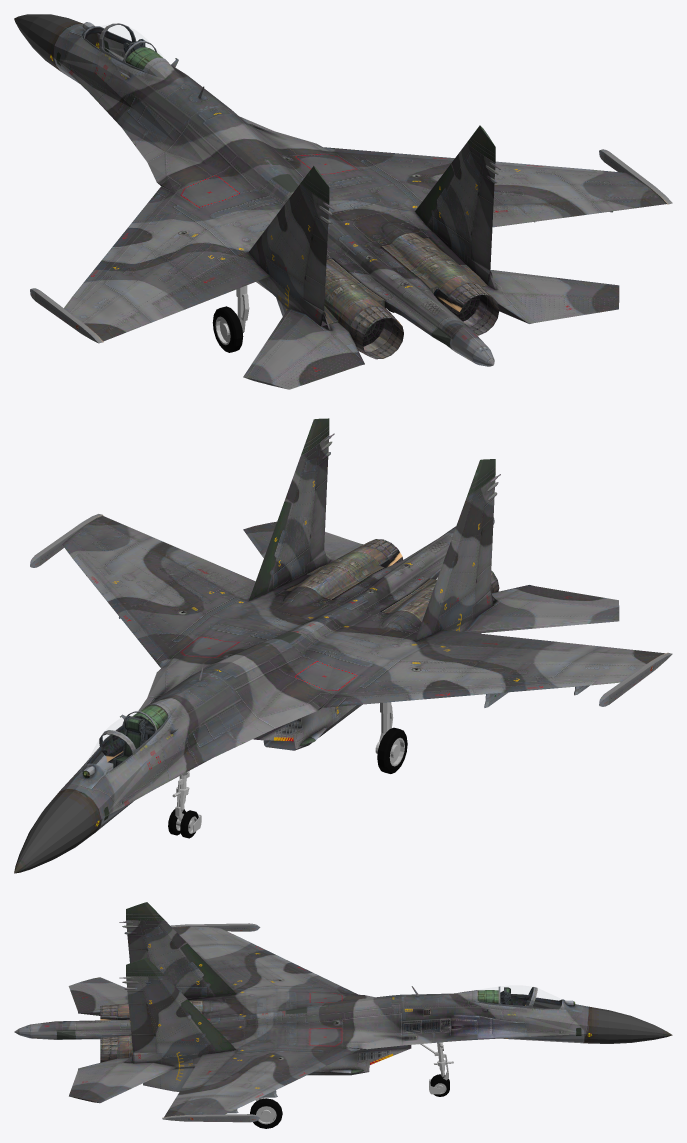
The picture shows the model from 3 angles, top to bottom: view 1: azimuth 30°, elevation 25°; view 2: azimuth 150°, elevation 25°; view 3: azimuth 270°, elevation 25°; orthographic projection. The views are drawn at different scales.
Visible parts, largest first — view 1: su27; view 2: su27; view 3: su27.
Boxes of the visible parts, <box> form: su27: <box>14,14,672,389</box>; su27: <box>14,418,672,873</box>; su27: <box>14,902,672,1128</box>.
Size of the model in its own units: 15.25 by 6.31 by 22.08.
6 materials, 4 textured.
